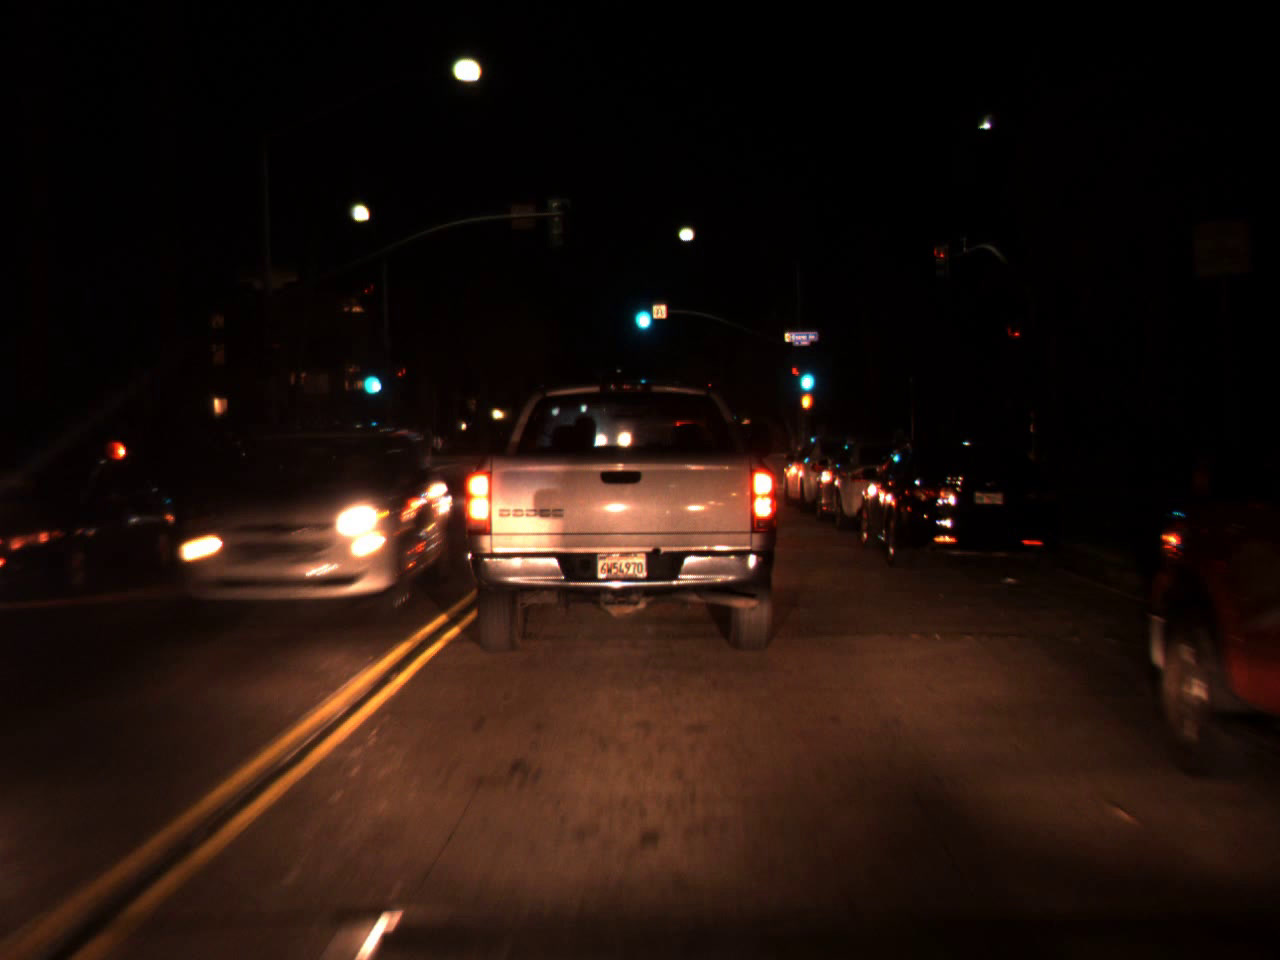go: (629, 288, 654, 336), (358, 355, 383, 400), (794, 352, 817, 397)
